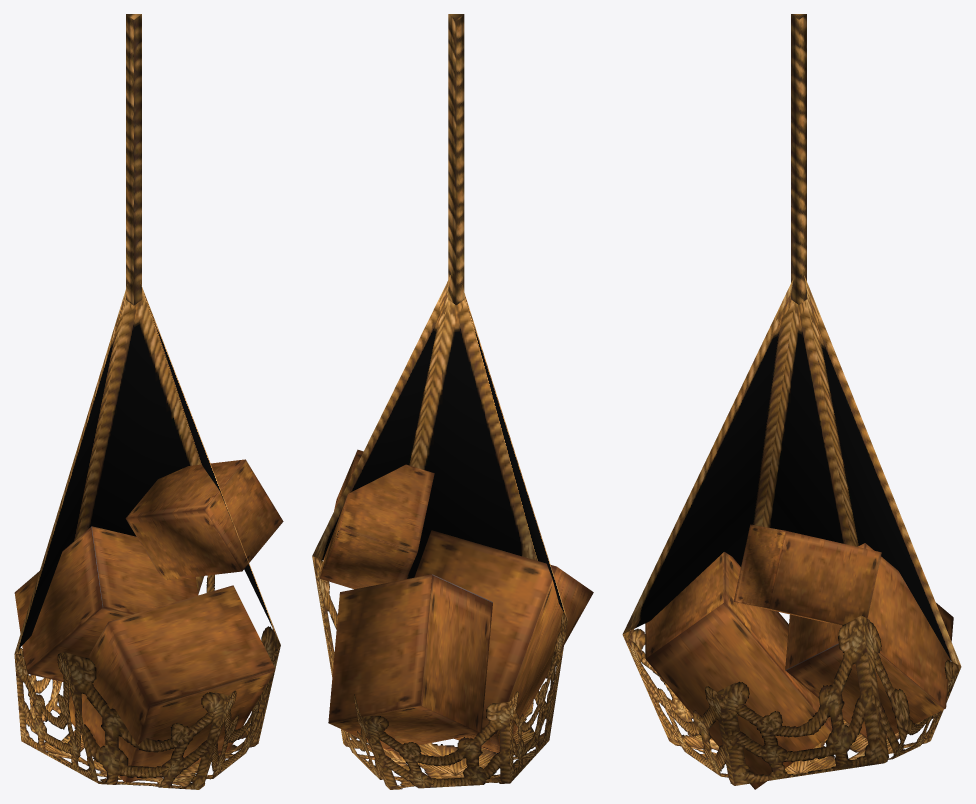
File: deadminecargonethangshort.obj
The picture shows the model from 3 angles, left to right: view 1: azimuth 30°, elevation 25°; view 2: azimuth 150°, elevation 25°; view 3: azimuth 270°, elevation 25°; orthographic projection.
Parts seen in each view (by area): view 1: Geoset0, Geoset1; view 2: Geoset0, Geoset1; view 3: Geoset0, Geoset1.
Part boxes in pixels (x1,y1,x2,y2): Geoset0: [14, 14, 283, 789]; Geoset1: [14, 283, 280, 653]; Geoset0: [312, 14, 593, 789]; Geoset1: [312, 275, 567, 618]; Geoset0: [622, 14, 961, 789]; Geoset1: [623, 276, 961, 666].
Size of the model in its own units: 2.34 by 7.56 by 3.06.
Materials: 2 (2 with a texture image).
